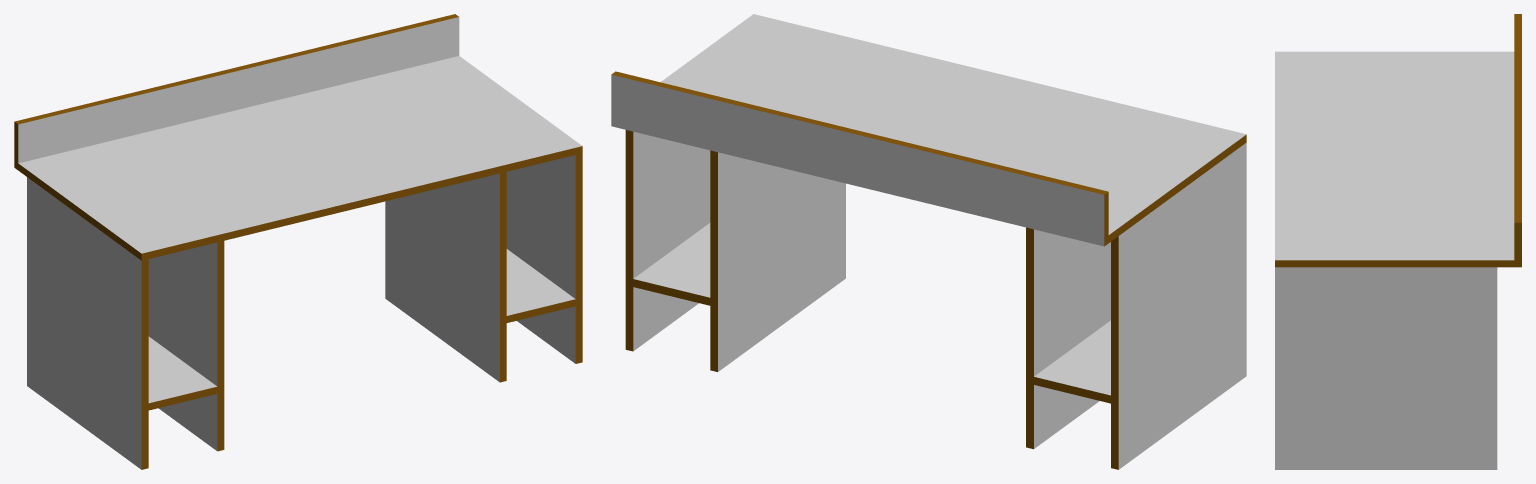
File: a411-stul.fbx
The picture shows the model from 3 angles, left to right: view 1: azimuth 30°, elevation 25°; view 2: azimuth 150°, elevation 25°; view 3: azimuth 270°, elevation 25°; orthographic projection. The views are drawn at different scales.
Visible parts, largest first — view 1: A411-Stul; view 2: A411-Stul; view 3: A411-Stul.
Part boxes in pixels (x1,y1,x2,y2): A411-Stul: (14,14,582,469); A411-Stul: (611,14,1246,469); A411-Stul: (1275,14,1521,469).
Size of the model in its own units: 160 by 88.5 by 80.
